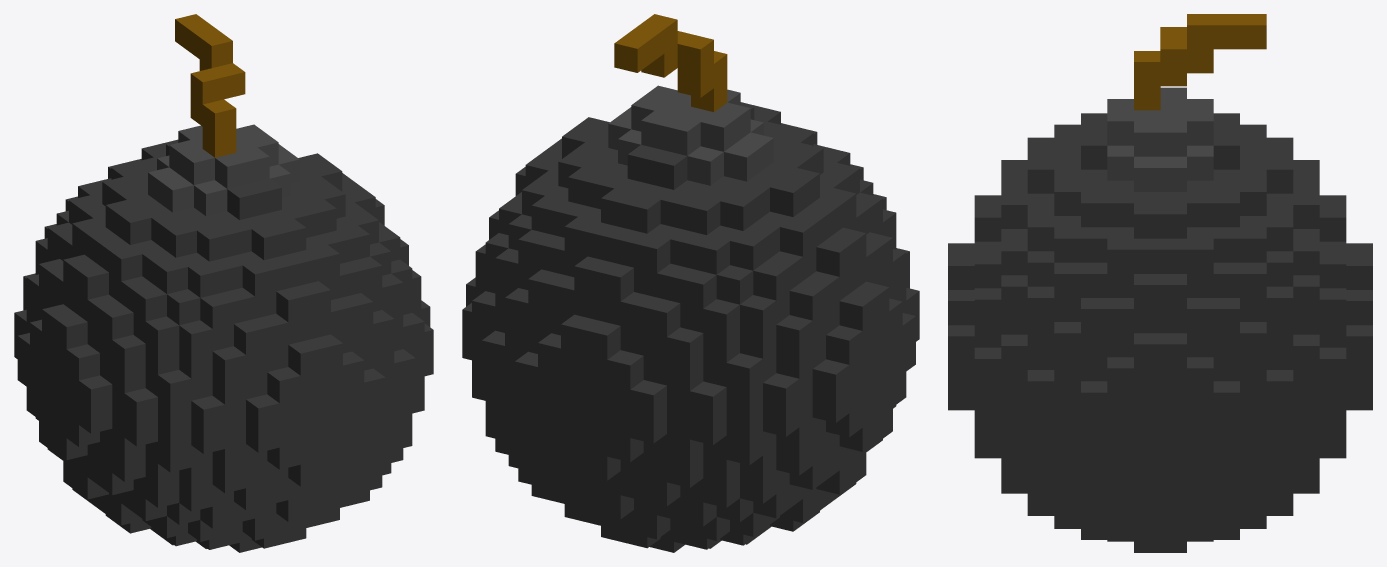
Rendered from Bomb.glb.
3 renders of one model, left to right at view 1: azimuth 30°, elevation 25°; view 2: azimuth 150°, elevation 25°; view 3: azimuth 270°, elevation 25°, orthographic. The views are drawn at different scales.
Visible parts, largest first — view 1: bomb (1); view 2: bomb (1); view 3: bomb (1).
Part boxes in pixels (<box>): bomb (1): <box>14,14,433,552</box>; bomb (1): <box>462,14,919,552</box>; bomb (1): <box>948,14,1372,552</box>.
Bounding box in the file's own units: 1.6 × 2.1 × 1.6.
